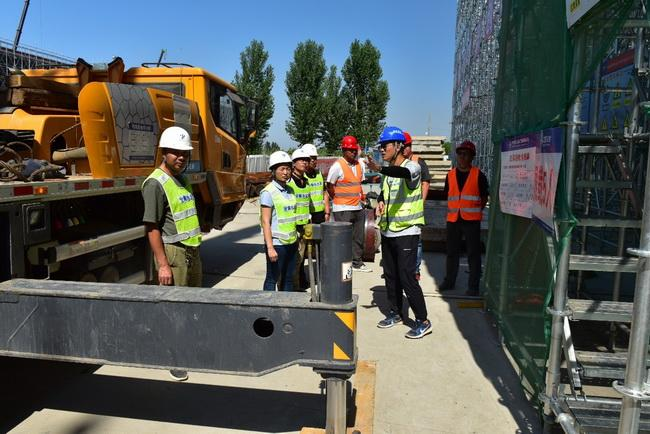helmet: (160, 128, 196, 152), (380, 128, 410, 146), (292, 146, 313, 168), (269, 152, 294, 170), (343, 137, 361, 152), (299, 144, 317, 159), (460, 141, 477, 154)
